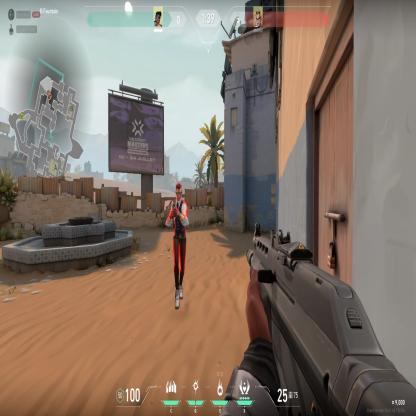enemy: (165, 181, 189, 310)
